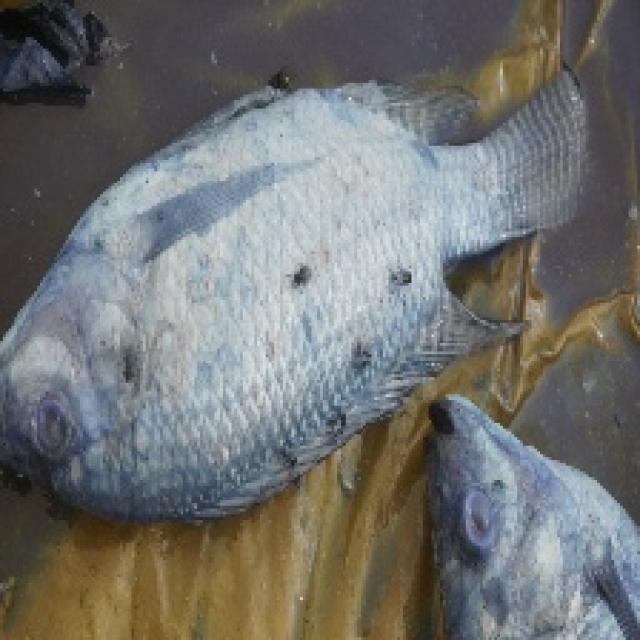Non-Fresh: (120, 150, 437, 430), (21, 380, 105, 474), (451, 473, 517, 561)
